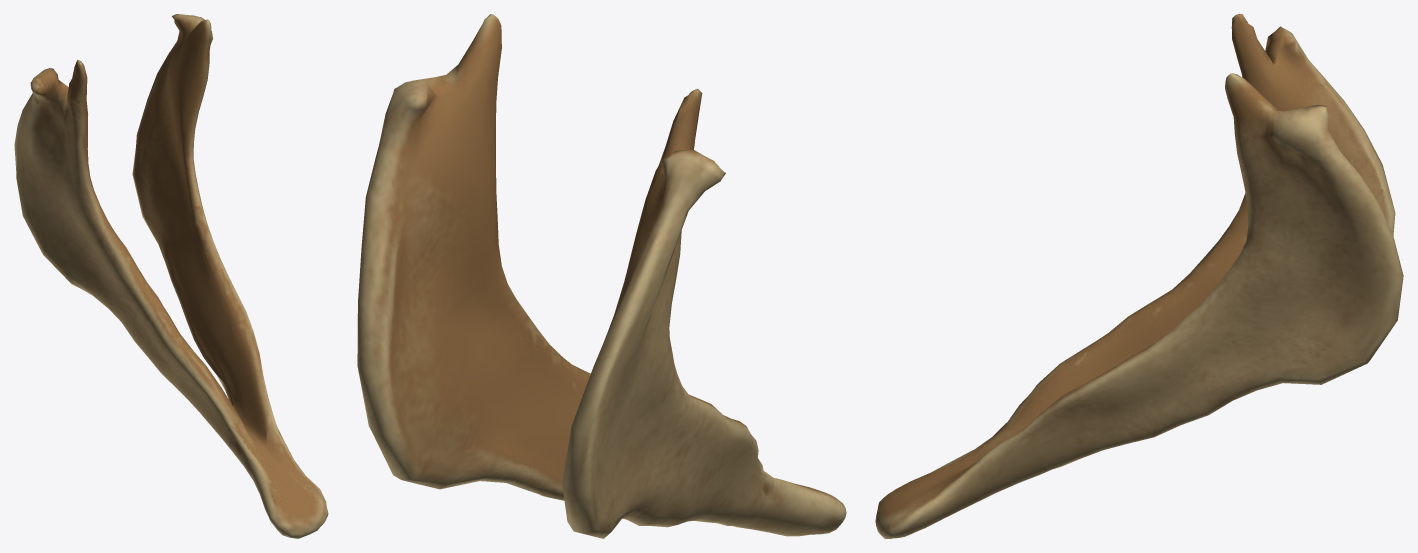
Rendered from Mandible.glb.
3 views of the same model, side by side, from view 1: azimuth 30°, elevation 25°; view 2: azimuth 150°, elevation 25°; view 3: azimuth 270°, elevation 25° (orthographic). The views are drawn at different scales.
Parts seen in each view (by area): view 1: skull1.001; view 2: skull1.001; view 3: skull1.001.
Boxes of the visible parts, x1,y1,x2,y2 form: skull1.001: (14,14,328,538); skull1.001: (357,14,846,538); skull1.001: (875,14,1403,538).
Bounding box in the file's own units: 0.1939 × 0.3968 × 0.3891.
Materials: 1 (1 with a texture image).
